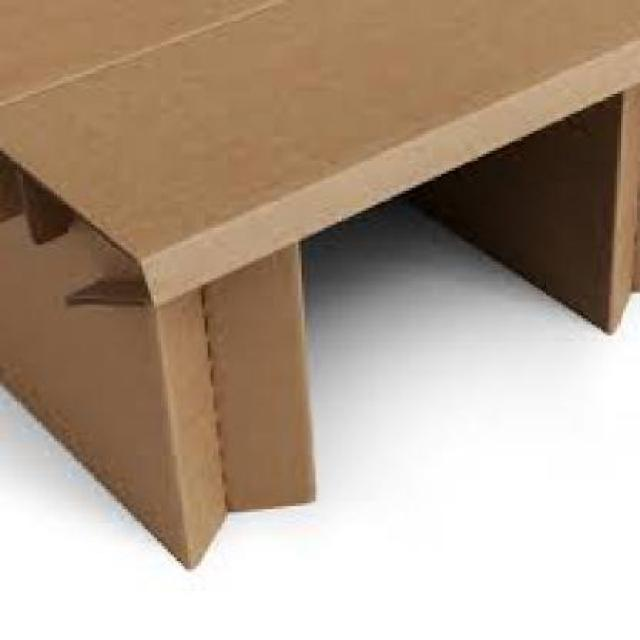cardboard: (0, 0, 637, 566), (0, 0, 637, 305)
